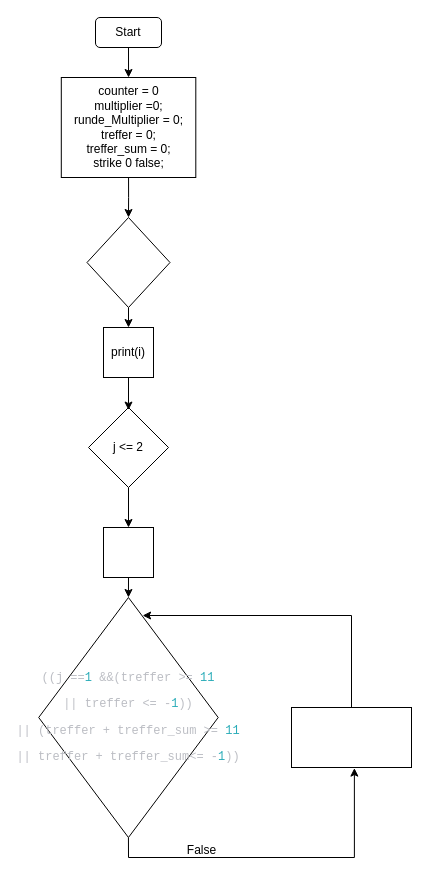
Some shapes in this 430 by 883 pixel diagram are drawn without their labels. The shapes that lost their labels are listed below. From the top down, each one's centre as x and y in pixels, then its label:
At pixel 128 262: "i<=10".
At pixel 128 552: "print(j)".
At pixel 351 737: "treffer".
